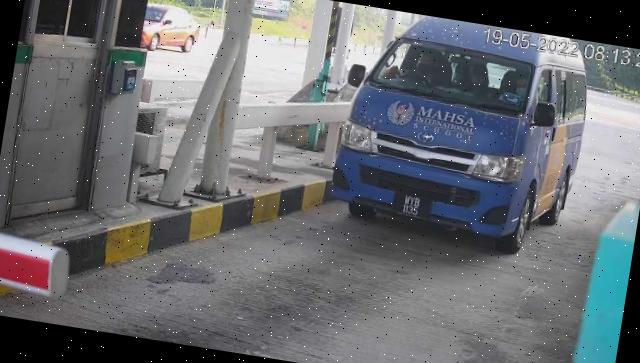License_Plate: (391, 188, 437, 225)
van: (325, 6, 599, 274)
